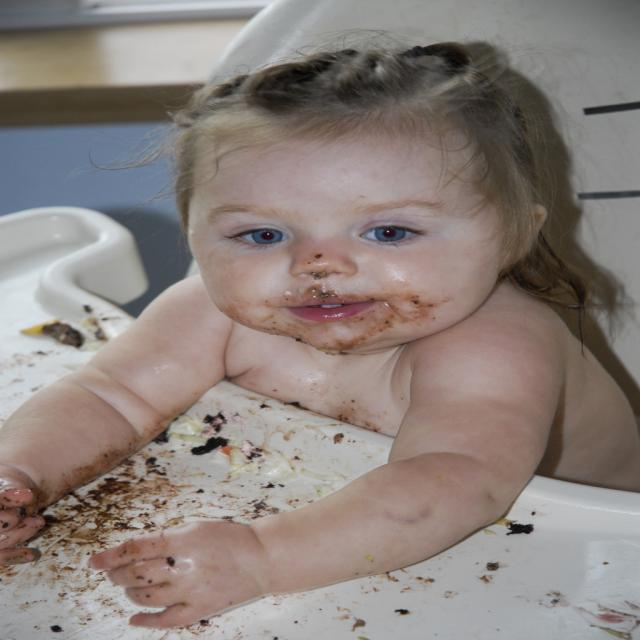closed-mouth: (286, 296, 381, 321)
